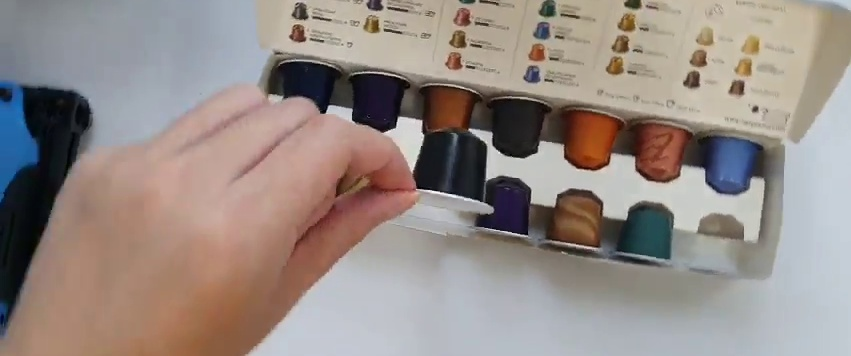capsule_10: (405, 127, 495, 217)
